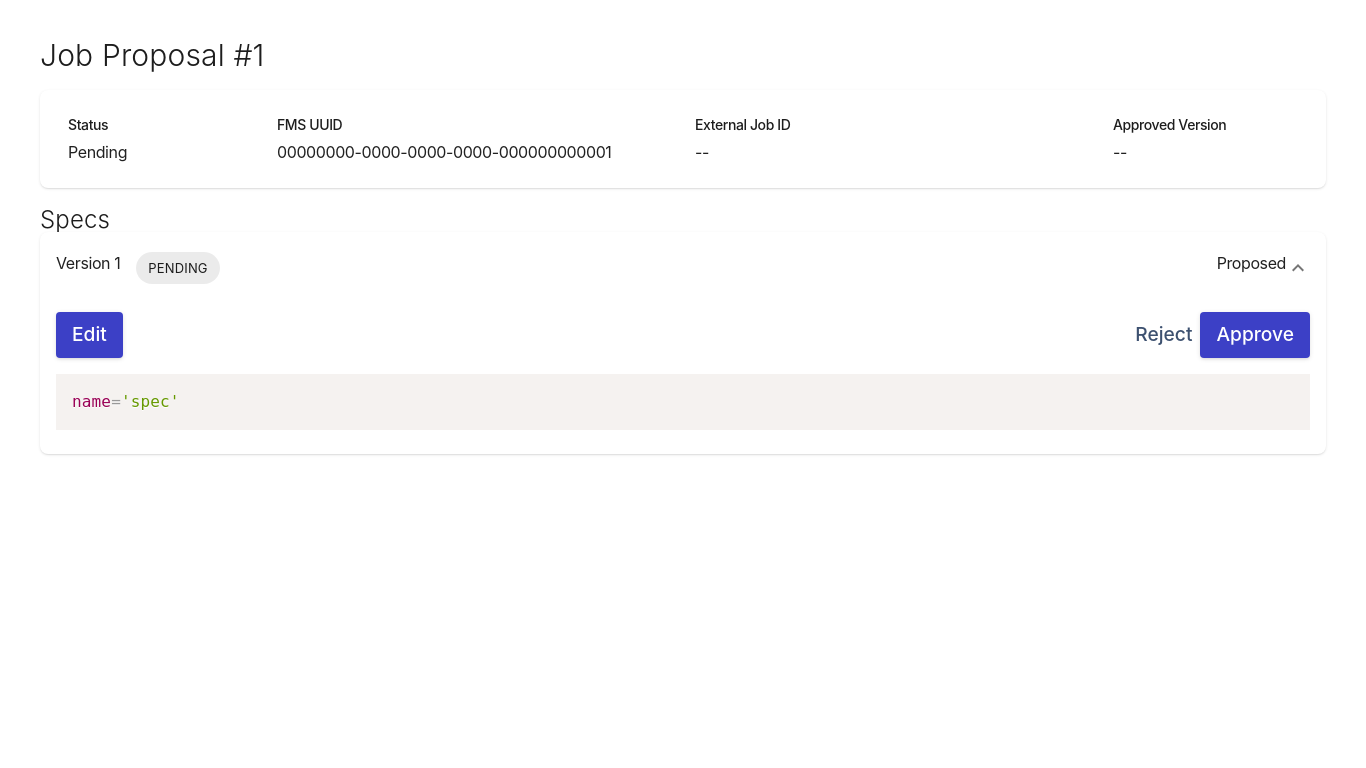
Test: JobProposalScreen › updates the spec
Click the button "Edit". click: [89, 335]
box: [56, 312, 123, 358]
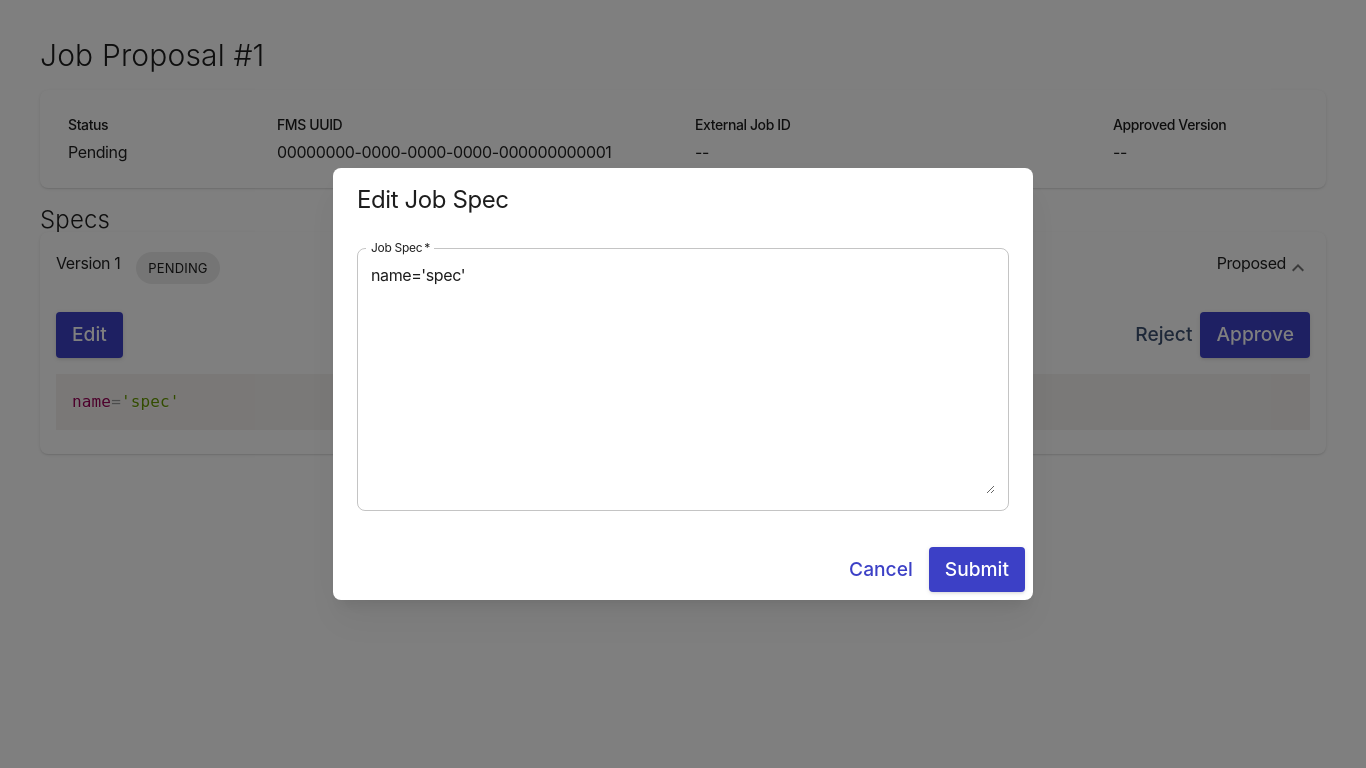
Replace the text in the text box labelled "Job Spec *" with "name=\"updated spec\"". click: [683, 379]
box: [371, 264, 995, 494]
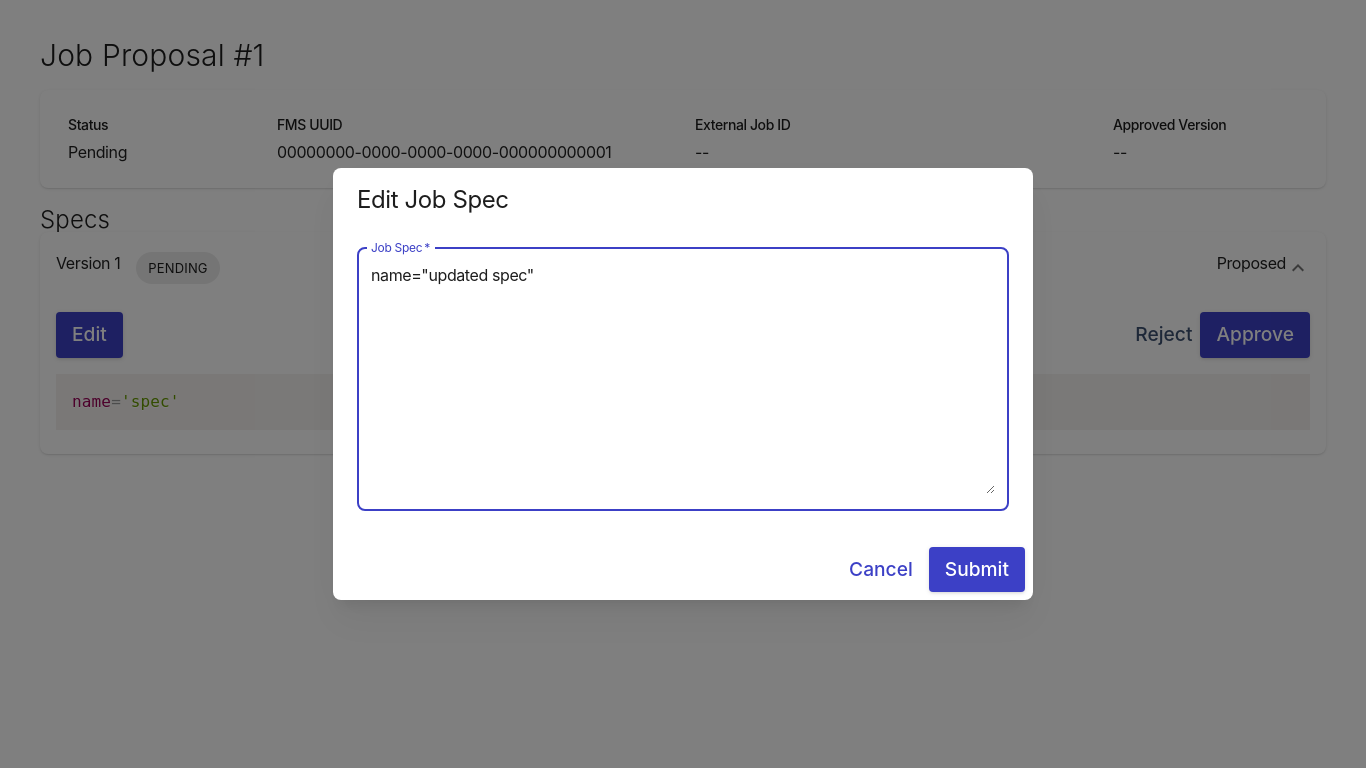
Click the button "Submit". click: [977, 570]
box: [929, 547, 1025, 592]
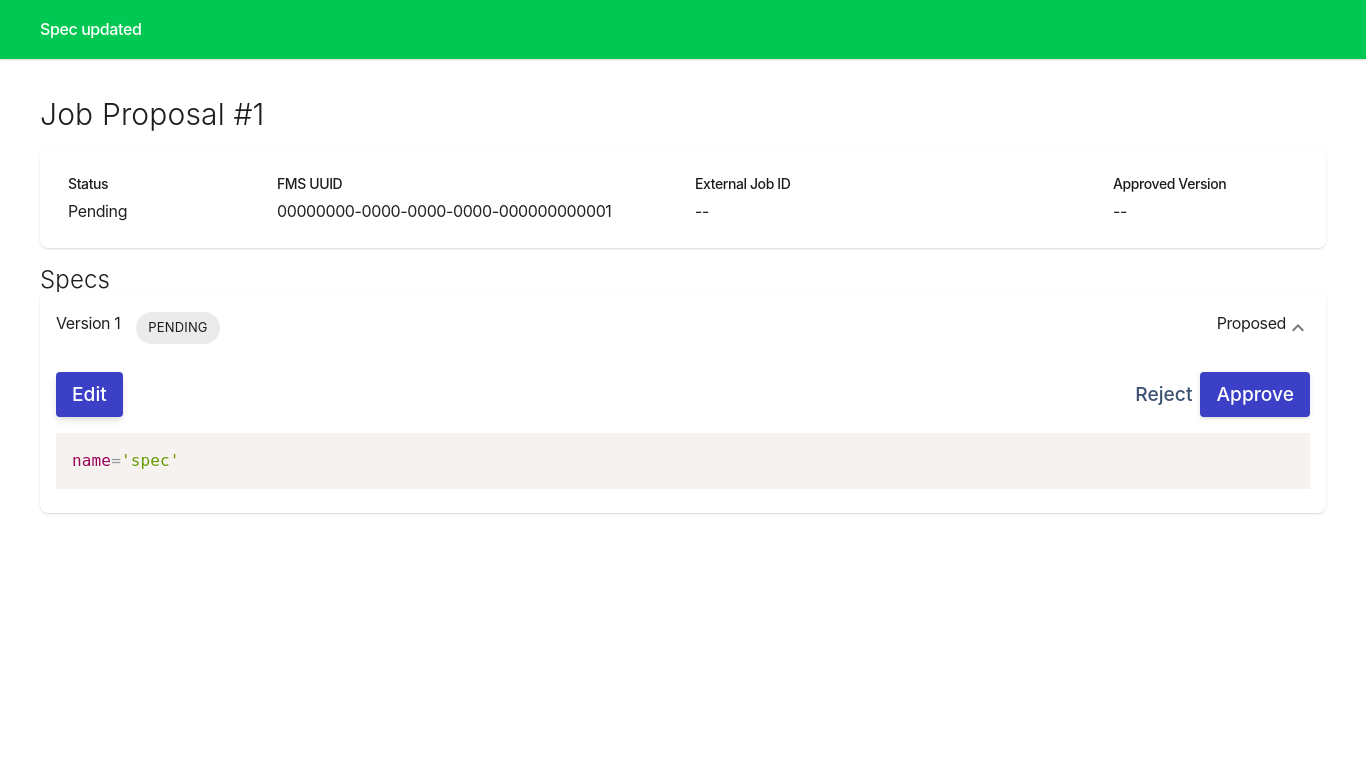
Check: the text "Spec updated" is shown, box [40, 19, 141, 39]
